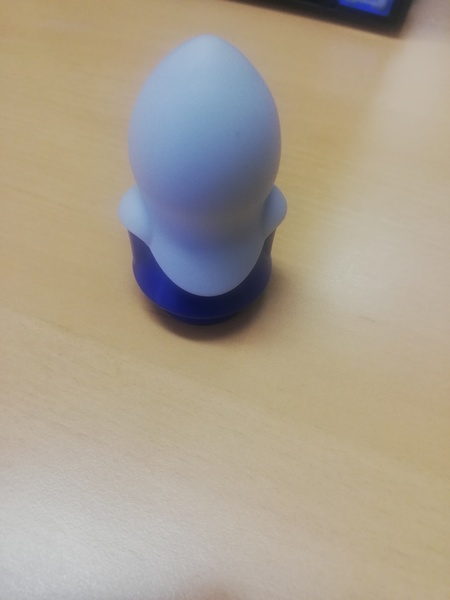personBlue: (131, 36, 277, 328)
